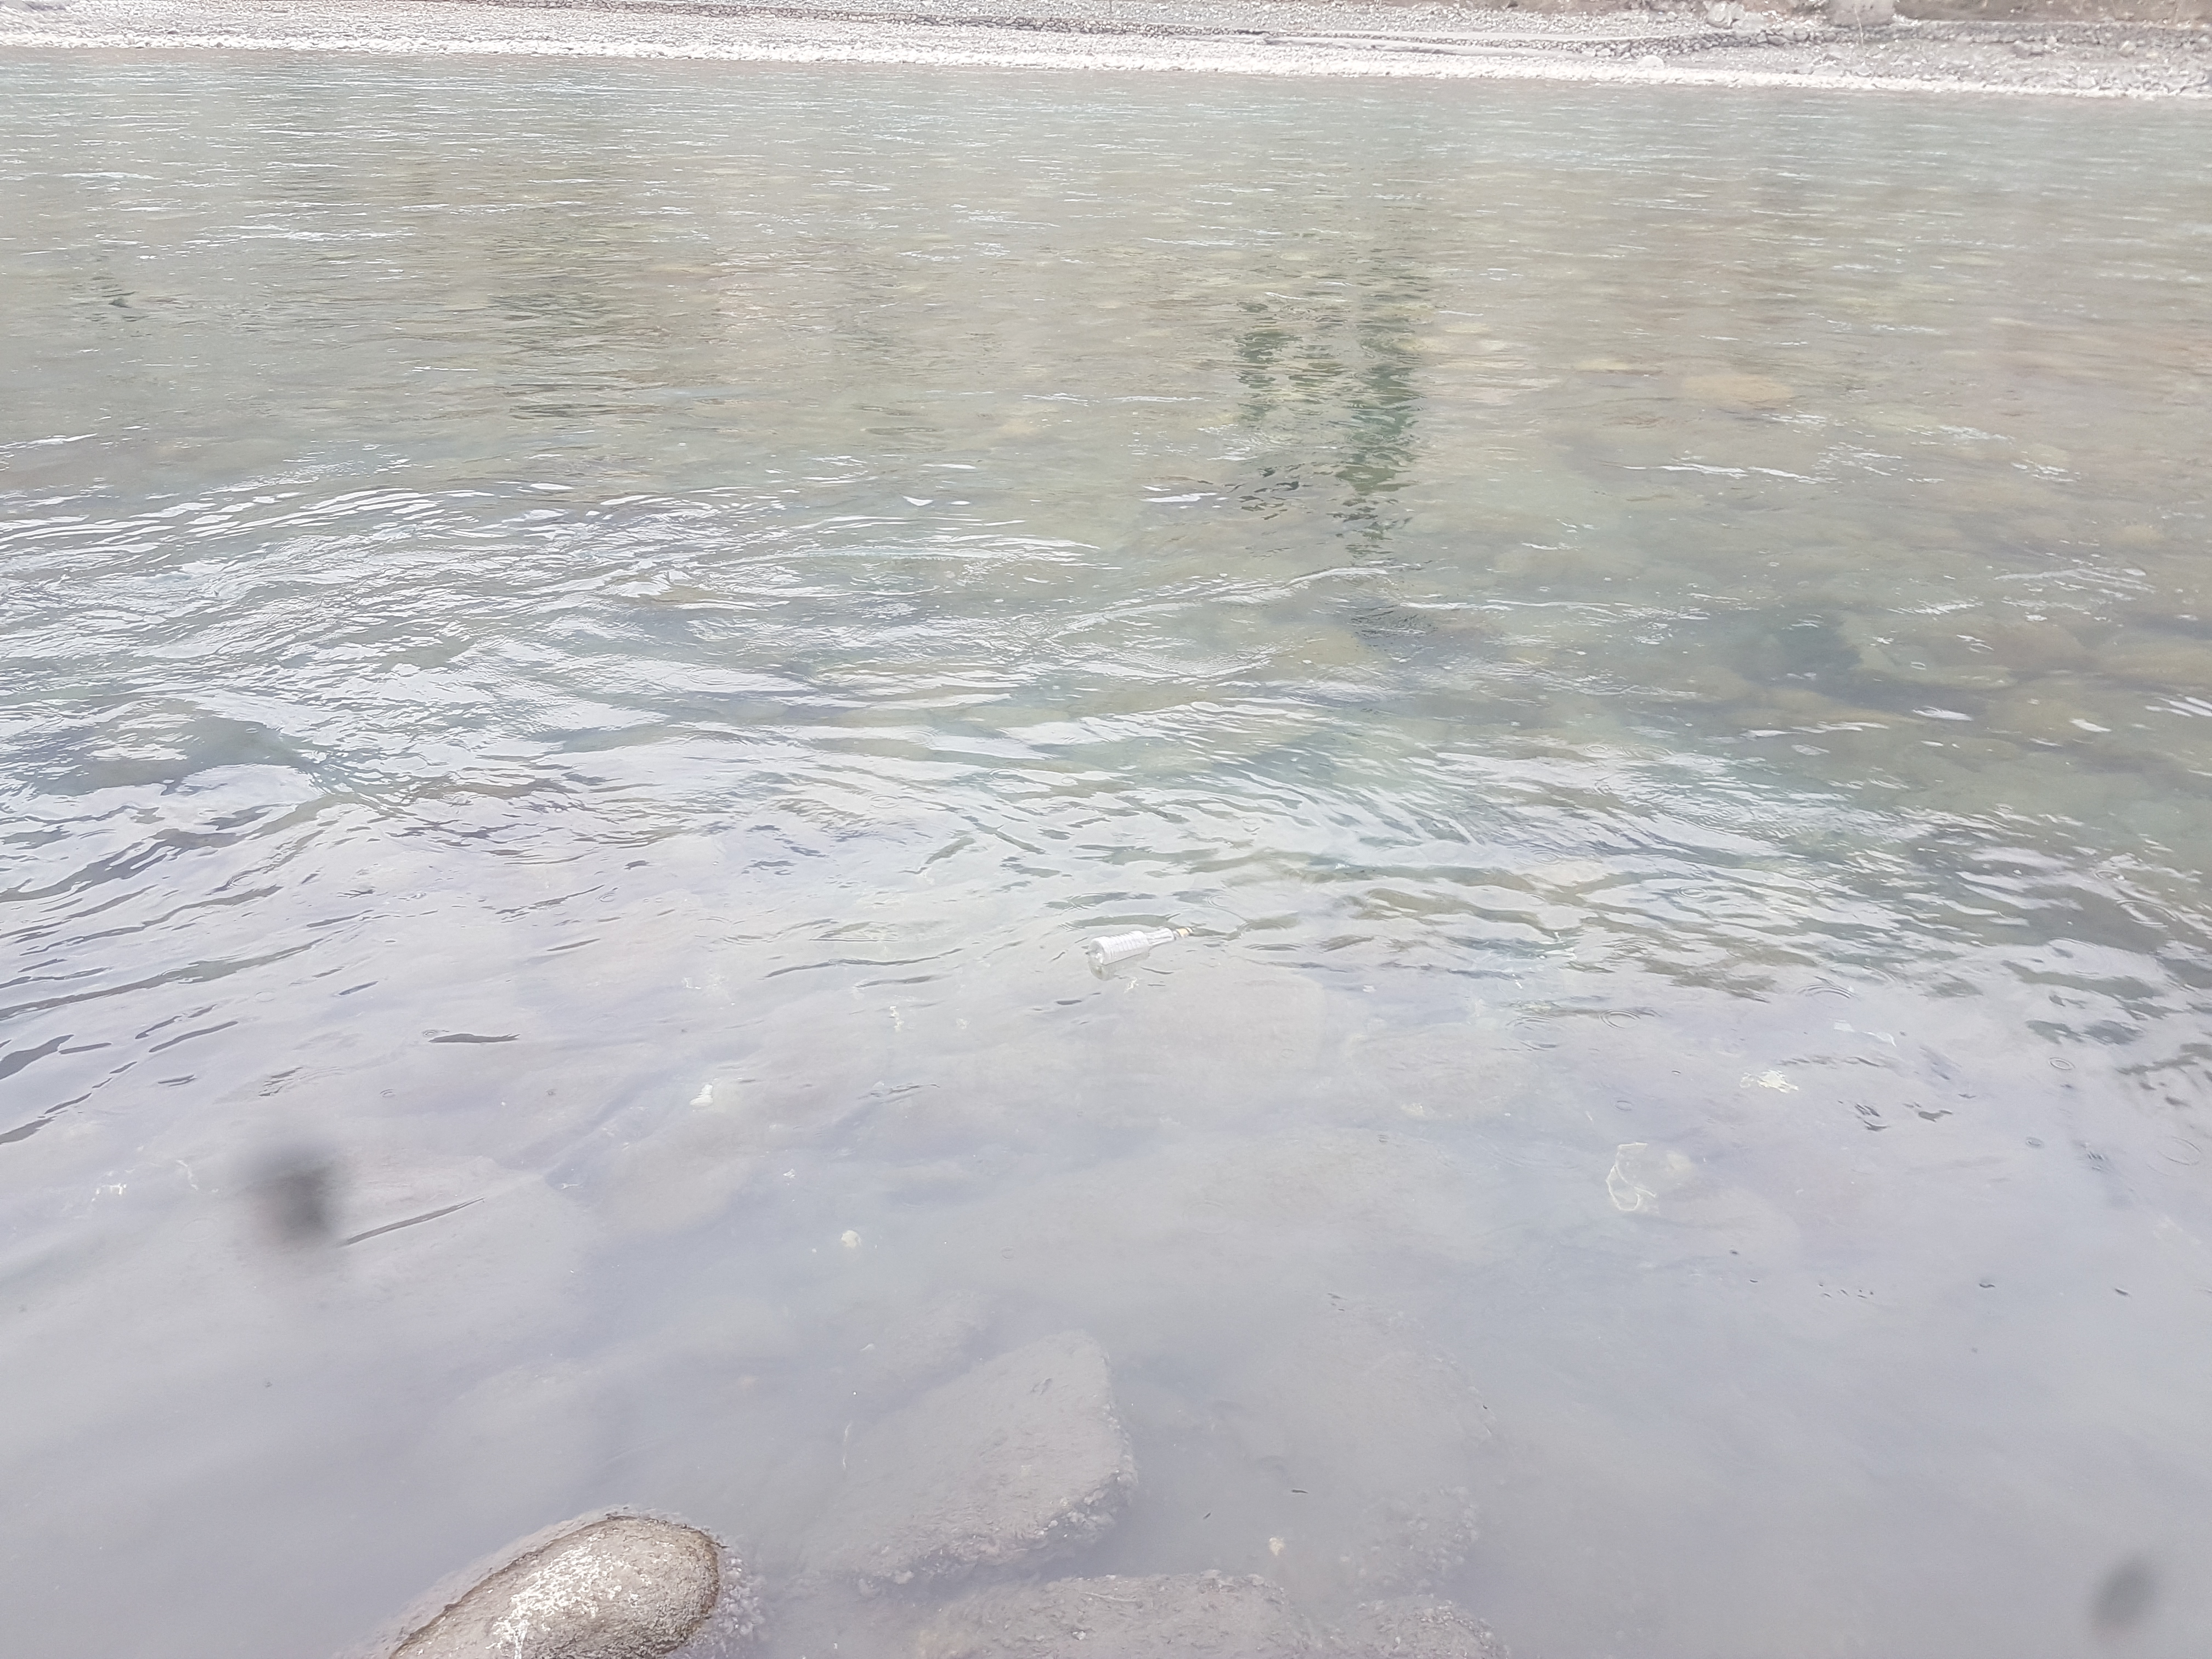Plastic Bottle: (1087, 925, 1191, 965)
